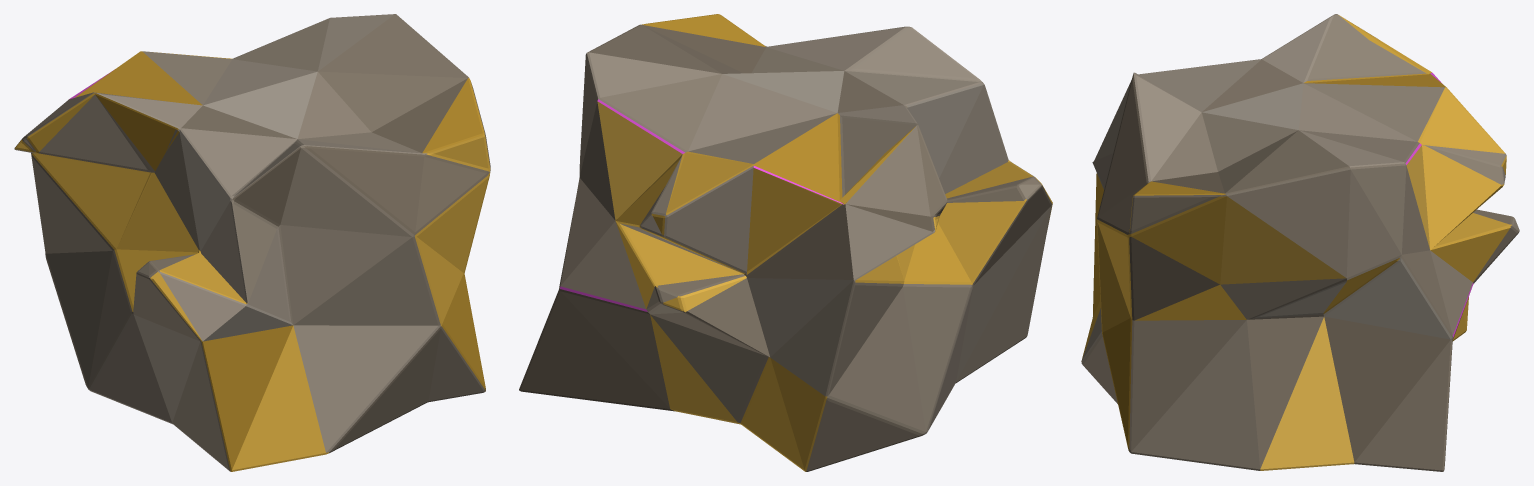
The model's file is MineableGold_b.fbx.
3 renders of one model, left to right at view 1: azimuth 30°, elevation 25°; view 2: azimuth 150°, elevation 25°; view 3: azimuth 270°, elevation 25°, orthographic. The views are drawn at different scales.
Parts seen in each view (by area): view 1: MineableGold_b; view 2: MineableGold_b; view 3: MineableGold_b.
Part boxes in pixels (left/top/right/bottom): MineableGold_b: left=14, top=14, right=490, bottom=471; MineableGold_b: left=519, top=14, right=1052, bottom=471; MineableGold_b: left=1081, top=14, right=1519, bottom=471.
Size of what is drawn, in the model's own units: 0.7939 by 0.5976 by 0.7965.
